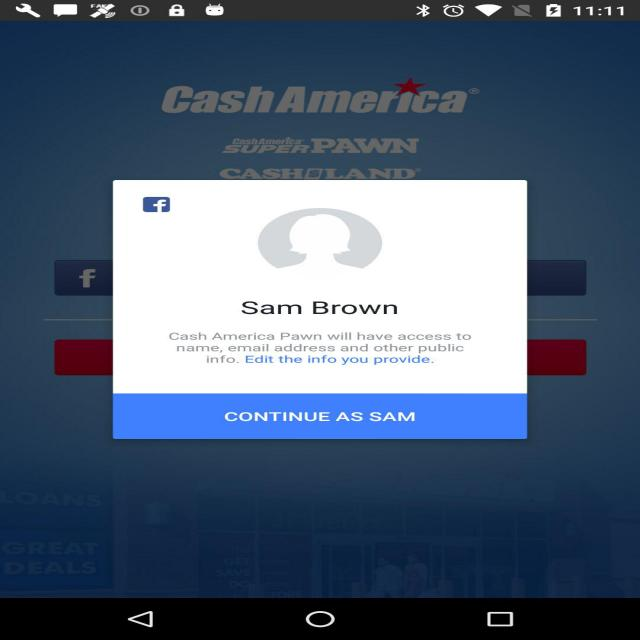button: (108, 388, 518, 442)
icon: (228, 204, 424, 281), (124, 190, 198, 222)
text: (138, 319, 526, 378), (198, 292, 459, 317)
